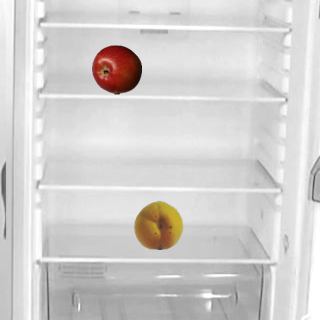Apple Braeburn: (91, 44, 141, 94)
Peach 2: (133, 199, 183, 249)
